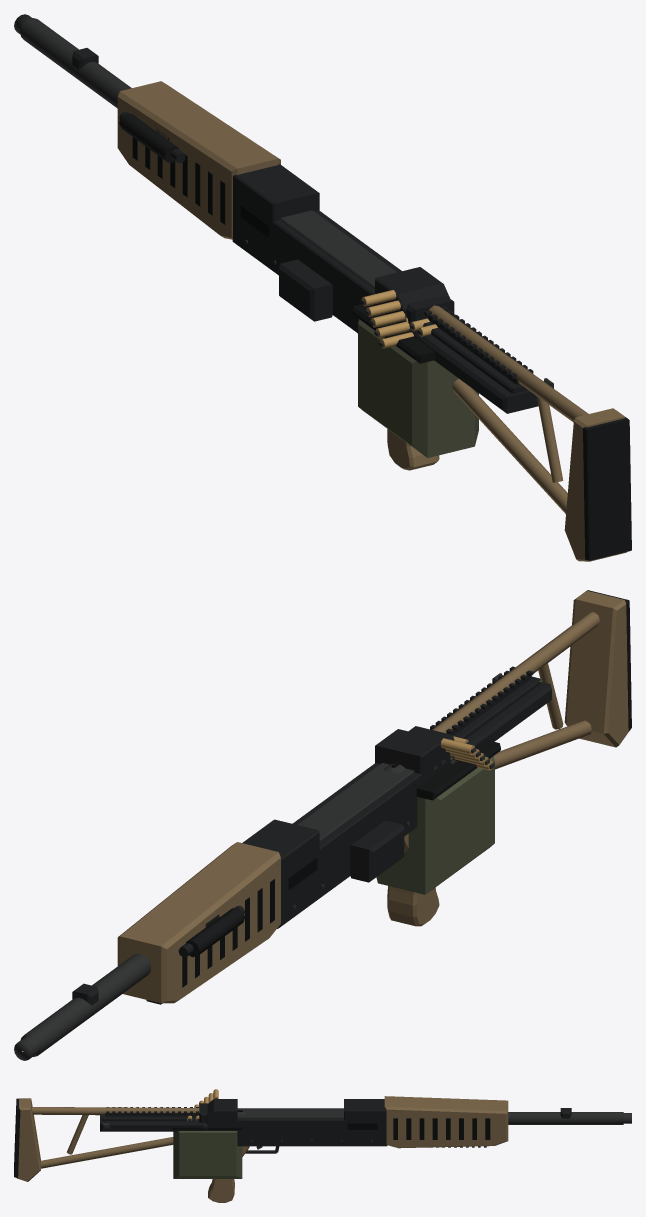
Rendered from weapon-29-CX631jZc.glb.
3 views of the same model, one above another, from view 1: azimuth 30°, elevation 25°; view 2: azimuth 150°, elevation 25°; view 3: azimuth 270°, elevation 25° (orthographic). The views are drawn at different scales.
Visible parts, largest first — view 1: salient_weapon_body, salient_weapon_magazine, salient_weapon_cover; view 2: salient_weapon_body, salient_weapon_magazine, salient_weapon_cover; view 3: salient_weapon_body, salient_weapon_magazine, salient_weapon_cover.
Boxes of the visible parts, bbox=[...] form: salient_weapon_body: bbox=[14, 14, 631, 561]; salient_weapon_magazine: bbox=[352, 290, 478, 457]; salient_weapon_cover: bbox=[408, 306, 553, 413]; salient_weapon_body: bbox=[14, 590, 631, 1060]; salient_weapon_magazine: bbox=[376, 738, 500, 894]; salient_weapon_cover: bbox=[430, 666, 551, 763]; salient_weapon_body: bbox=[14, 1096, 631, 1202]; salient_weapon_magazine: bbox=[173, 1089, 242, 1178]; salient_weapon_cover: bbox=[100, 1107, 207, 1131].
Bounding box in the file's own units: 0.086 × 0.1815 × 1.03.
